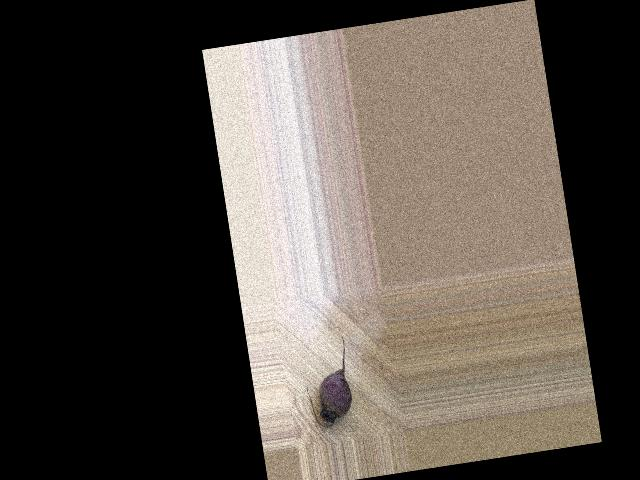beet: (299, 335, 356, 429)
